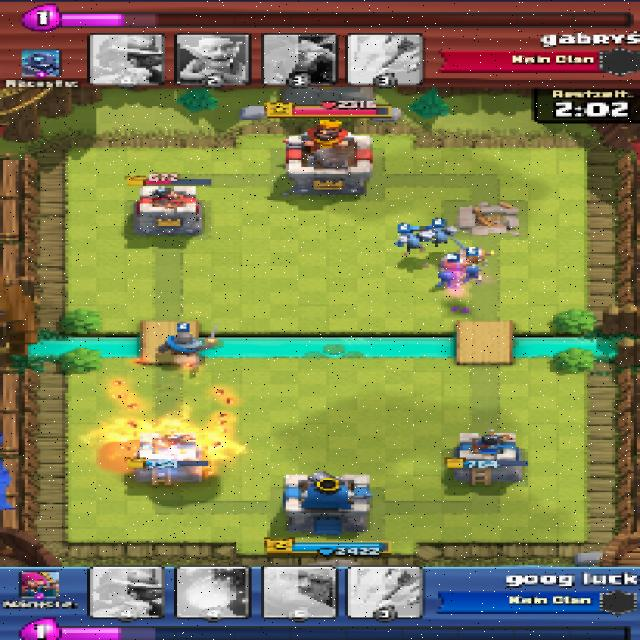Enemy-Fireball: (98, 421, 234, 466)
Player-Knight: (153, 332, 214, 357)
Player-Minion: (424, 224, 456, 244), (395, 233, 430, 250)
Player-Wallbreaker: (460, 248, 493, 280), (435, 257, 465, 282)
